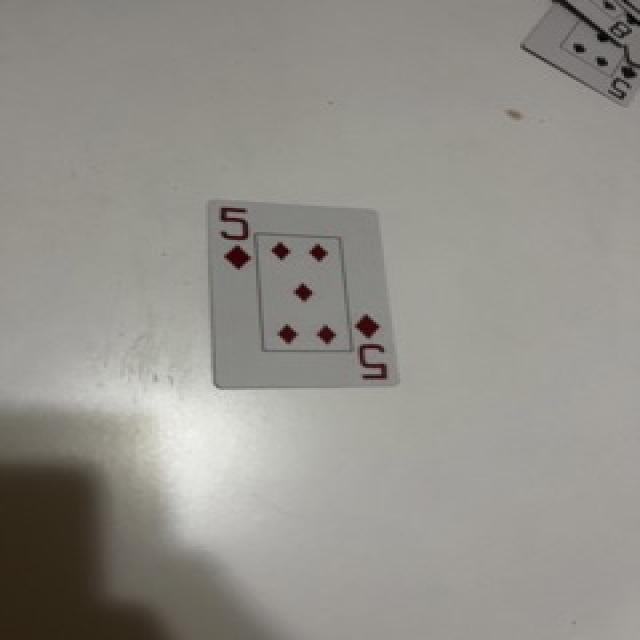5 of diamonds: (211, 201, 397, 384)
